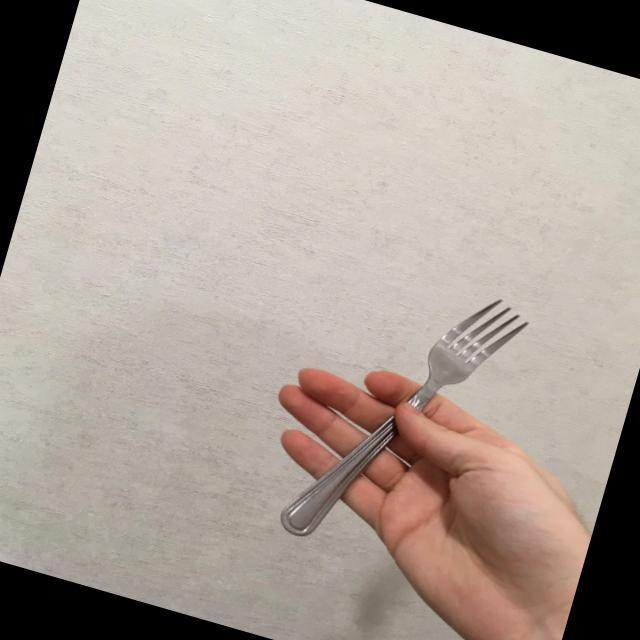fork: (276, 256, 537, 581)
